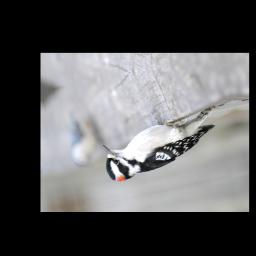Woodpecker: (91, 102, 238, 191)
